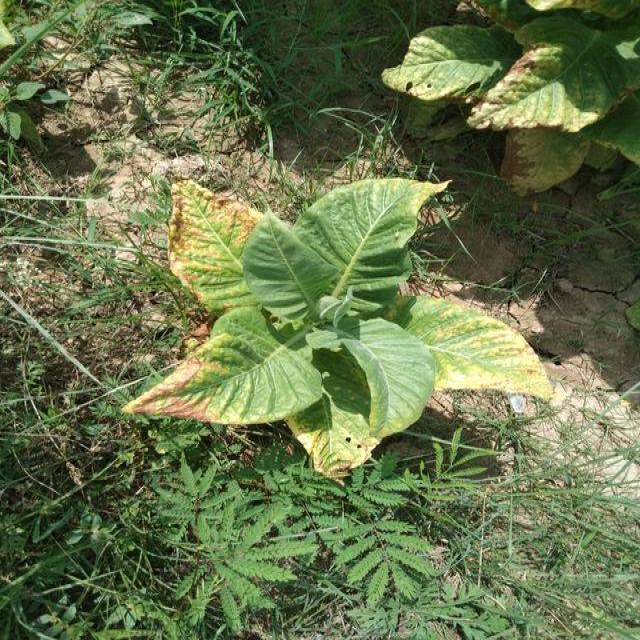crop: (129, 173, 554, 482)
